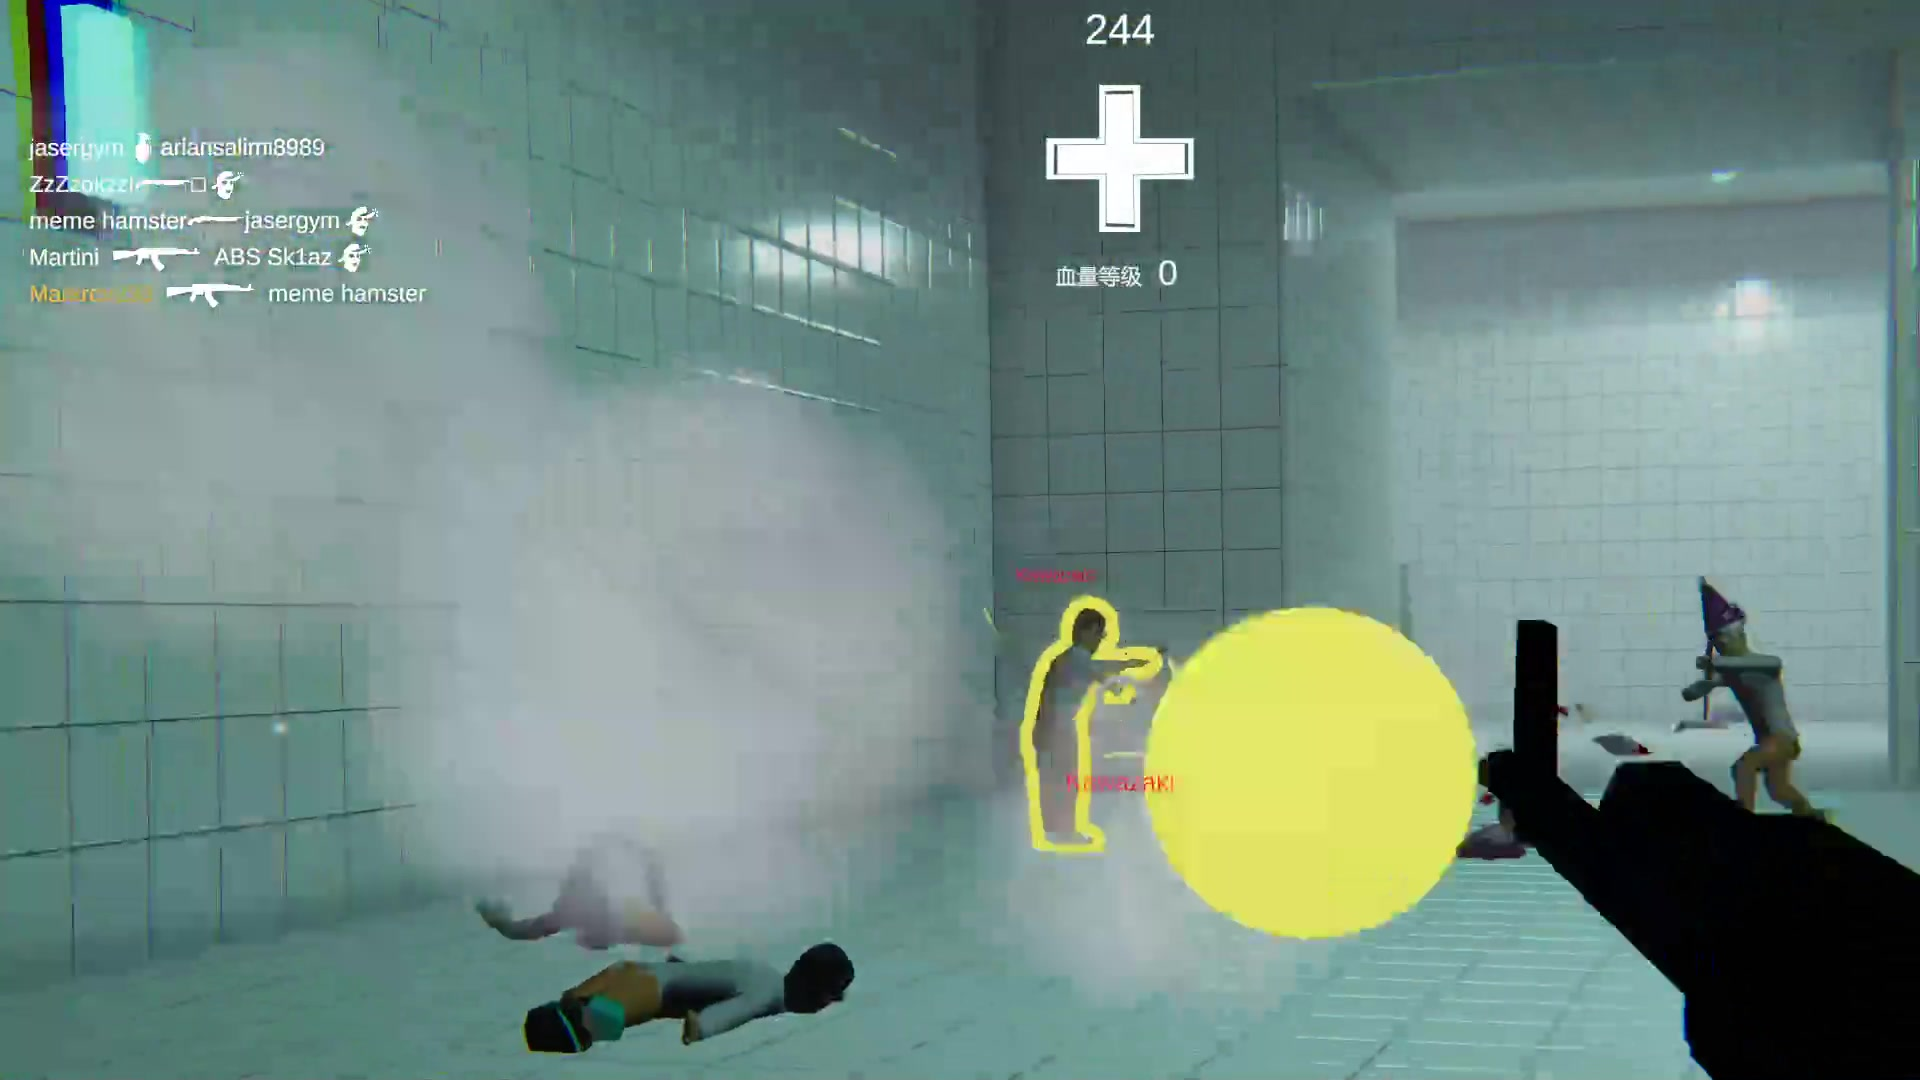died: (548, 952, 849, 1033)
human: (1709, 601, 1791, 806), (1044, 585, 1099, 850)
